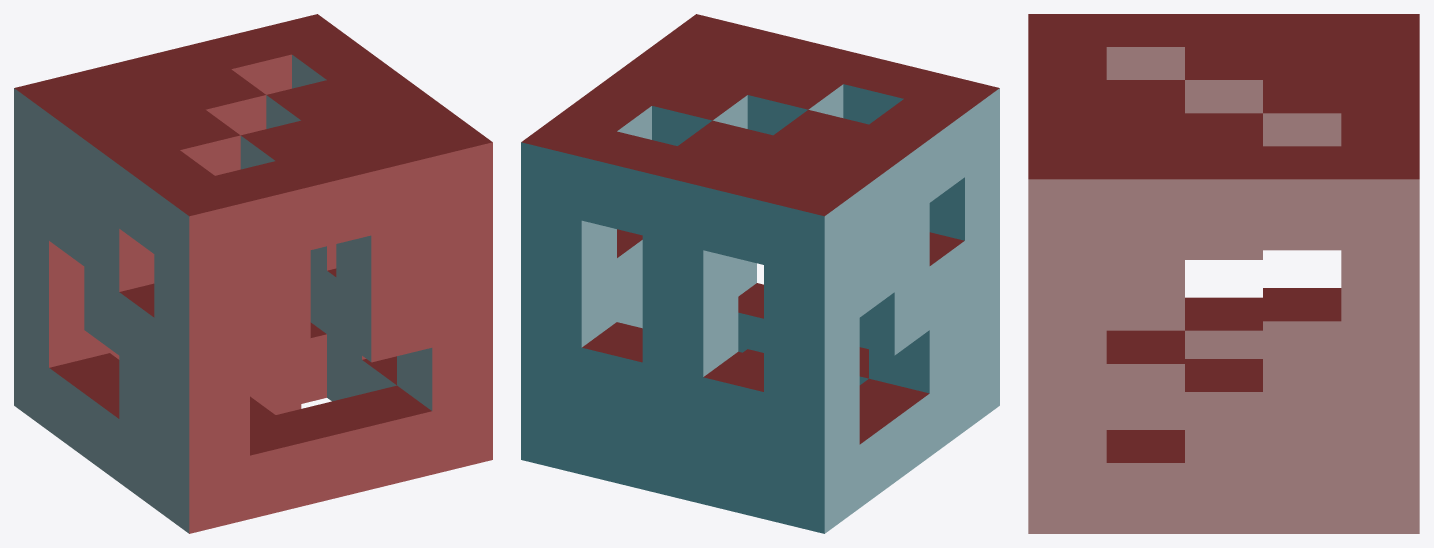
Rendered from 3D maze_001.6.fbx.
3 views of the same model, side by side, from view 1: azimuth 30°, elevation 25°; view 2: azimuth 150°, elevation 25°; view 3: azimuth 270°, elevation 25° (orthographic). The views are drawn at different scales.
Parts seen in each view (by area): view 1: cube8, cube58, cube4, cube25, cube33, cube7, cube5, cube30, cube18, cube23, cube1, cube3 (+43 smaller); view 2: cube13, cube66, cube19, cube24, cube40, cube17, cube39, cube9, cube20, cube43, cube15, cube67 (+41 smaller); view 3: cube3, cube15, cube11, cube32, cube41, cube62, cube10, cube63, cube44, cube6, cube14, cube69 (+29 smaller).
Boxes of the visible parts, x1,y1,x2,y2 form: cube8: (154, 176, 249, 279); cube58: (336, 273, 432, 362); cube4: (154, 318, 249, 406); cube25: (154, 445, 249, 533); cube33: (154, 381, 249, 470); cube7: (154, 254, 249, 343); cube5: (336, 131, 432, 235); cube30: (276, 400, 371, 504); cube18: (276, 146, 371, 249); cube23: (337, 385, 432, 489); cube1: (215, 161, 310, 264); cube3: (397, 116, 492, 220); cube13: (764, 176, 859, 279); cube66: (642, 288, 738, 376); cube19: (764, 381, 859, 470); cube24: (764, 318, 859, 406); cube40: (764, 445, 859, 533); cube17: (521, 258, 616, 347); cube39: (764, 254, 859, 343); cube9: (581, 131, 677, 235); cube20: (642, 146, 737, 249); cube43: (703, 161, 798, 264); cube15: (521, 116, 616, 220); cube67: (642, 235, 738, 313); cube3: (1028, 146, 1106, 250); cube15: (1341, 146, 1419, 250); cube11: (1106, 146, 1184, 250); cube32: (1263, 146, 1341, 250); cube41: (1106, 430, 1184, 533); cube62: (1263, 288, 1341, 391); cube10: (1185, 146, 1262, 250); cube63: (1185, 359, 1262, 462); cube44: (1106, 330, 1184, 429); cube6: (1341, 250, 1419, 321); cube14: (1028, 250, 1106, 321); cube69: (1106, 250, 1184, 321).
Bounding box in the file's own units: 10 × 10 × 10.
